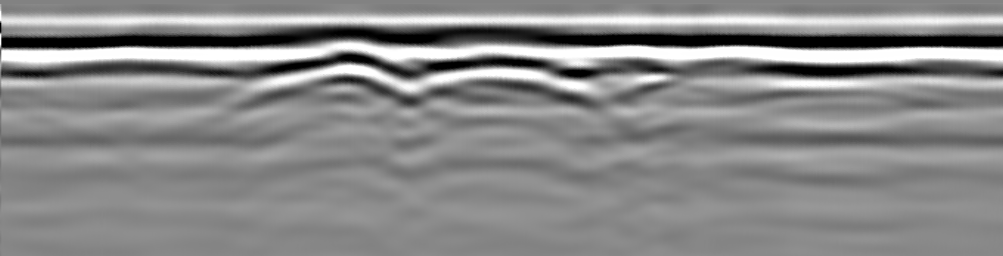pipe: (279, 27, 409, 72), (423, 30, 560, 71)
